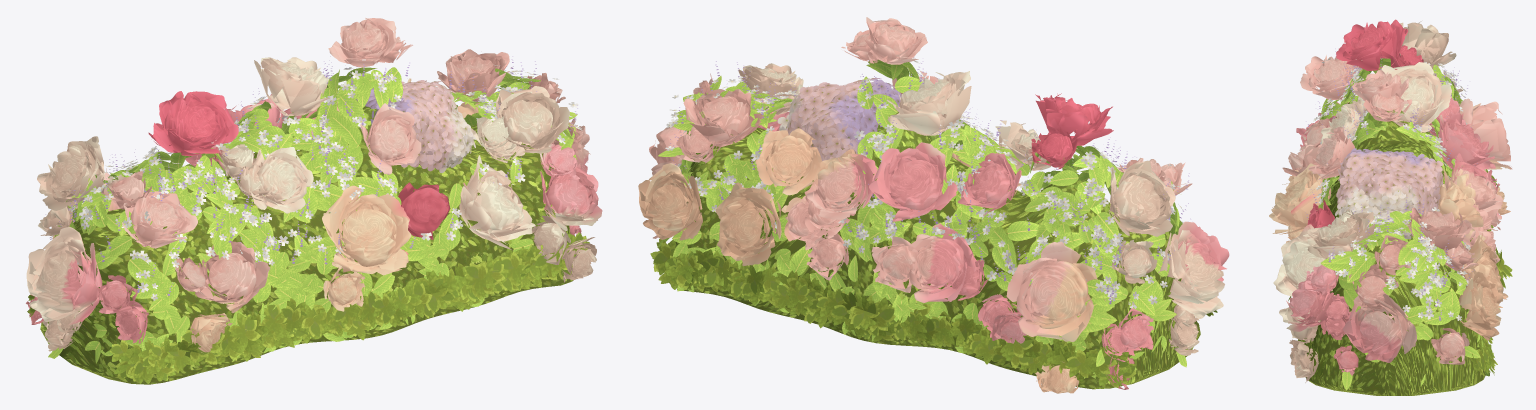
The model's file is FlowerBank_1m_sample_A_1002_v15.glb.
3 renders of one model, left to right at view 1: azimuth 30°, elevation 25°; view 2: azimuth 150°, elevation 25°; view 3: azimuth 270°, elevation 25°, orthographic. The views are drawn at different scales.
Parts seen in each view (by area): view 1: FlowerBank_1m; view 2: FlowerBank_1m; view 3: FlowerBank_1m.
Boxes of the visible parts, x1=… form: FlowerBank_1m: x1=26, y1=18, x2=602, y2=384; FlowerBank_1m: x1=638, y1=17, x2=1229, y2=393; FlowerBank_1m: x1=1269, y1=19, x2=1512, y2=395.
Size of the model in its own units: 1.28 by 0.5736 by 0.5706.
8 materials, 6 textured.
